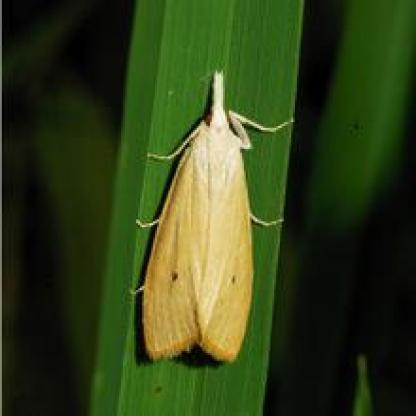stem-borer: (136, 65, 264, 368)
